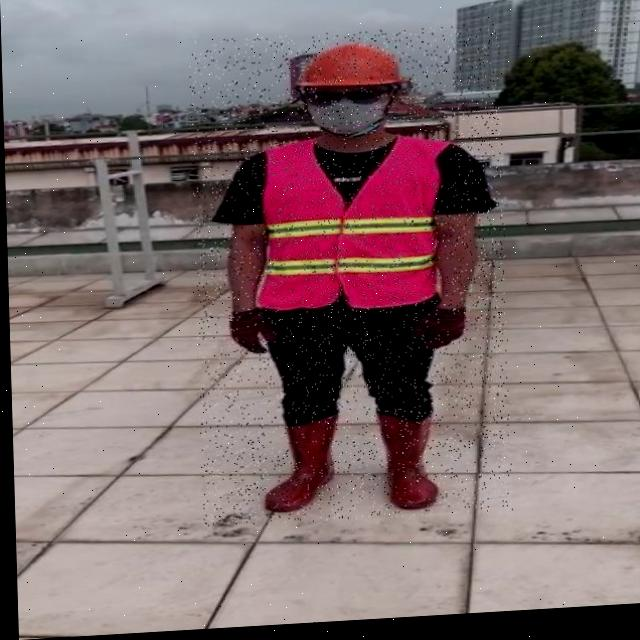Gloves: (407, 308, 465, 356), (227, 310, 266, 358)
Safety-Boot: (260, 415, 339, 516), (374, 410, 437, 515)
Safety-Vest: (251, 135, 456, 319)
